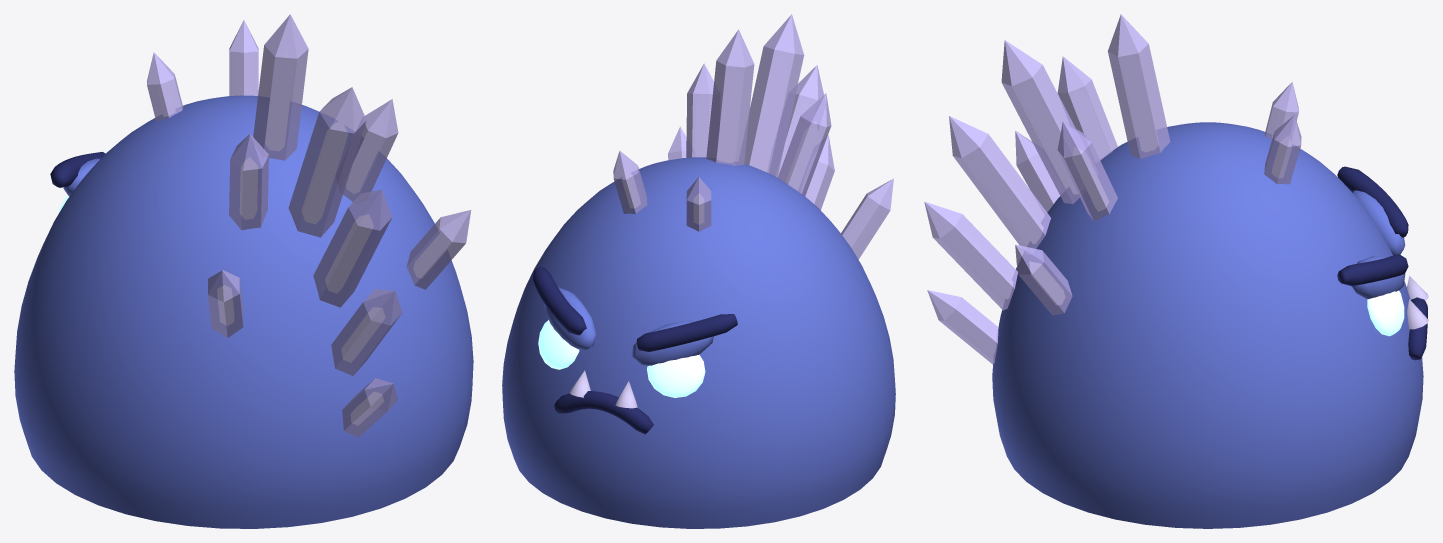
Rendered from Guardian_Crystal.glb.
3 renders of one model, left to right at view 1: azimuth 30°, elevation 25°; view 2: azimuth 150°, elevation 25°; view 3: azimuth 270°, elevation 25°, orthographic. The views are drawn at different scales.
Visible parts, largest first — view 1: Body, Crystals, CrystalCores, Brows; view 2: Body, Crystals, Brows, Eyes, Lids, Mouth, Teeth, CrystalCores; view 3: Body, Crystals, Brows, Lids, Eyes, CrystalCores, Mouth, Teeth.
Part boxes in pixels (box(x1,y1,x2,y2)): Body: box(14, 95, 473, 528); Crystals: box(147, 14, 471, 437); CrystalCores: box(160, 51, 452, 423); Brows: box(50, 152, 105, 187); Body: box(502, 157, 895, 528); Crystals: box(613, 14, 893, 259); Brows: box(533, 267, 737, 351); Eyes: box(538, 320, 705, 397); Lids: box(544, 287, 713, 366); Mouth: box(554, 391, 653, 434); Teeth: box(569, 370, 637, 408); CrystalCores: box(623, 67, 878, 248); Body: box(992, 122, 1423, 528); Crystals: box(924, 14, 1301, 364); Brows: box(1337, 166, 1408, 286); Lids: box(1352, 190, 1405, 299); Eyes: box(1367, 251, 1404, 336); CrystalCores: box(949, 51, 1291, 342); Mouth: box(1408, 297, 1427, 360); Teeth: box(1407, 276, 1428, 329).
Bounding box in the file's own units: 12 × 13.17 × 14.04.
